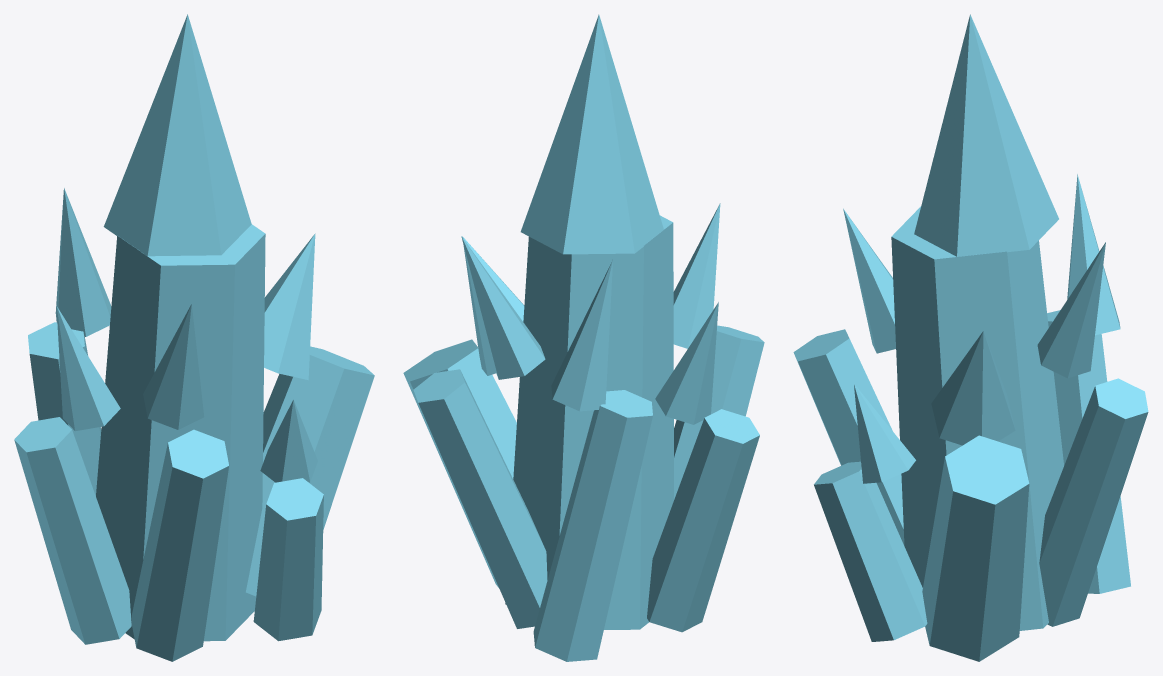
The model's file is AetherCrystal.fbx.
3 views of the same model, side by side, from view 1: azimuth 30°, elevation 25°; view 2: azimuth 150°, elevation 25°; view 3: azimuth 270°, elevation 25° (orthographic). The views are drawn at different scales.
Parts seen in each view (by area): view 1: AetherCrystal; view 2: AetherCrystal; view 3: AetherCrystal.
Boxes of the visible parts, x1,y1,x2,y2 form: AetherCrystal: [14, 14, 374, 661]; AetherCrystal: [403, 14, 764, 661]; AetherCrystal: [793, 14, 1148, 661].
Size of the model in its own units: 162 by 268 by 144.
